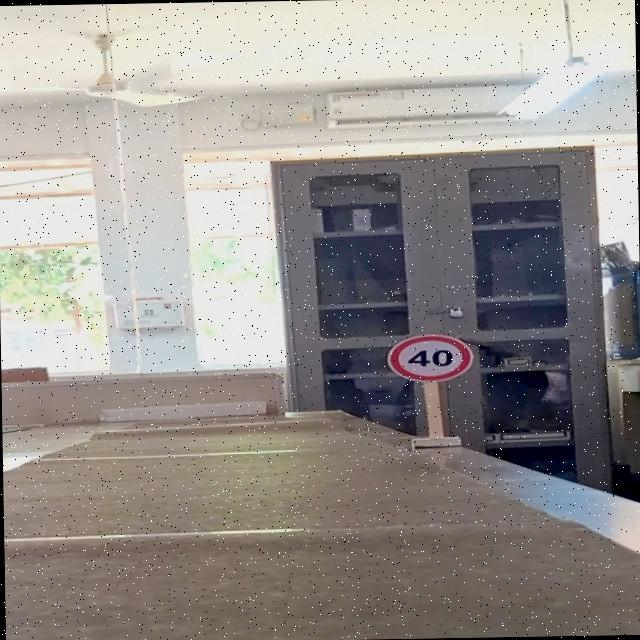Speed40: (382, 330, 474, 384)
